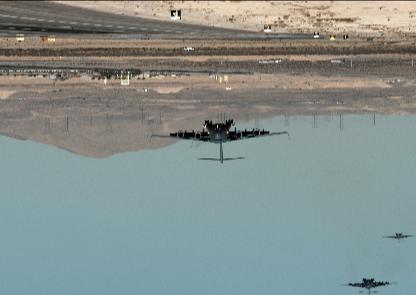C2: (150, 120, 290, 162), (340, 278, 396, 294), (382, 234, 414, 242)
